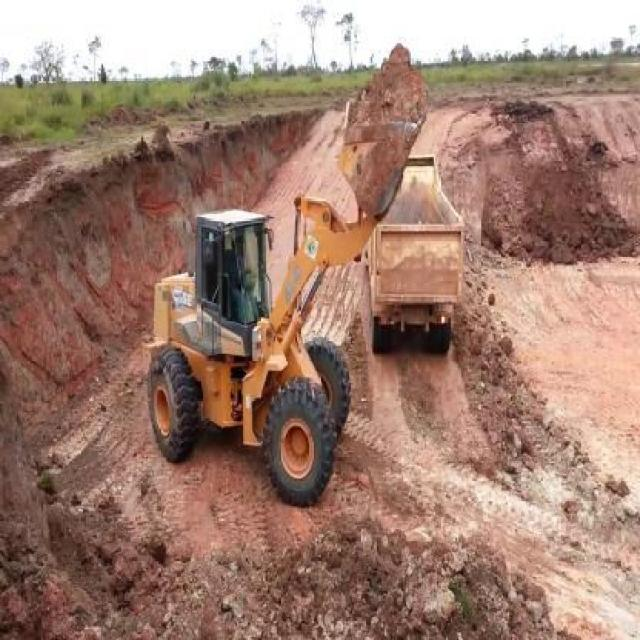Dump Truck: (365, 149, 461, 356)
Loader: (145, 42, 426, 502)
